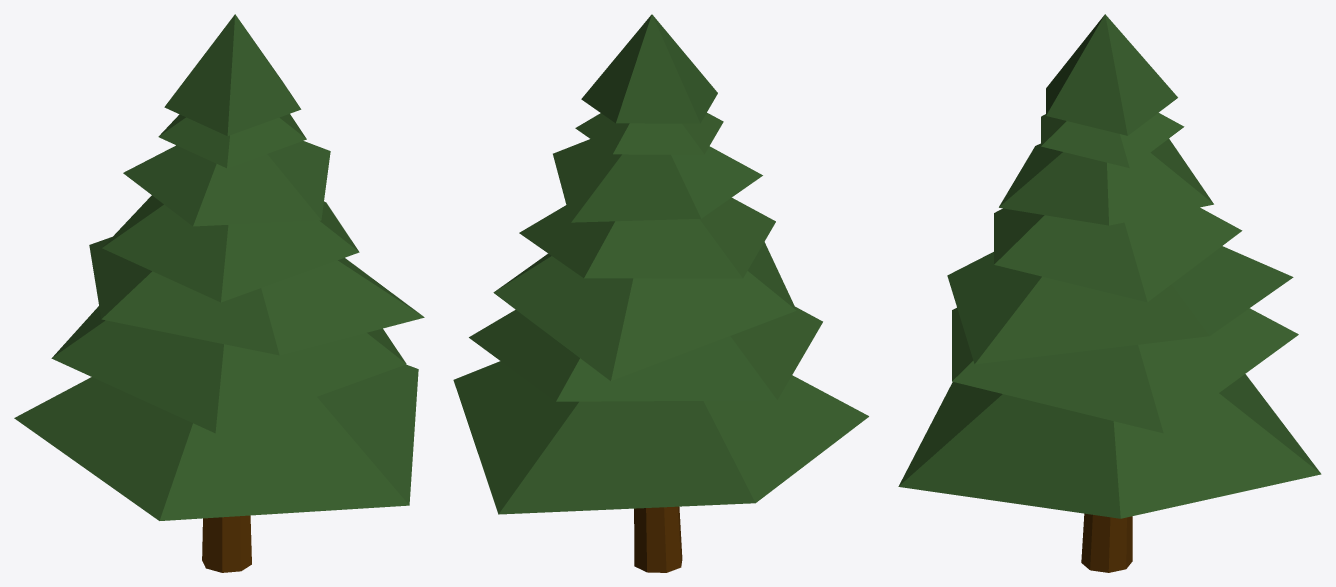
File: Tree9.fbx
3 renders of one model, left to right at view 1: azimuth 30°, elevation 25°; view 2: azimuth 150°, elevation 25°; view 3: azimuth 270°, elevation 25°, orthographic.
Parts seen in each view (by area): view 1: Tree9; view 2: Tree9; view 3: Tree9.
Boxes of the visible parts, x1=… form: Tree9: x1=14, y1=14, x2=424, y2=572; Tree9: x1=453, y1=14, x2=868, y2=572; Tree9: x1=898, y1=14, x2=1321, y2=572.
Bounding box in the file's own units: 254 × 376 × 262.
